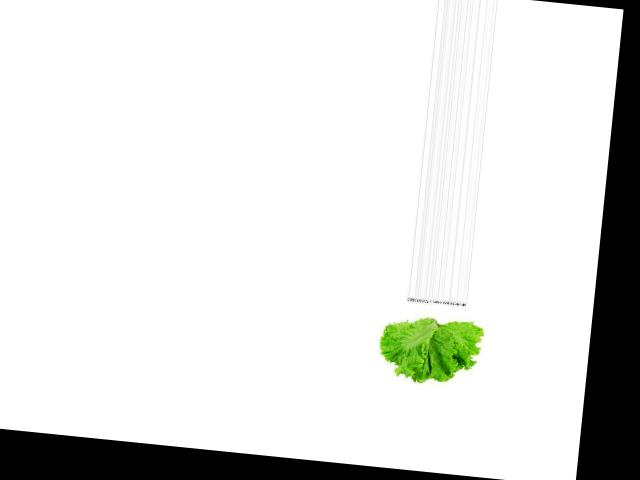lettuce: (374, 299, 486, 389)
